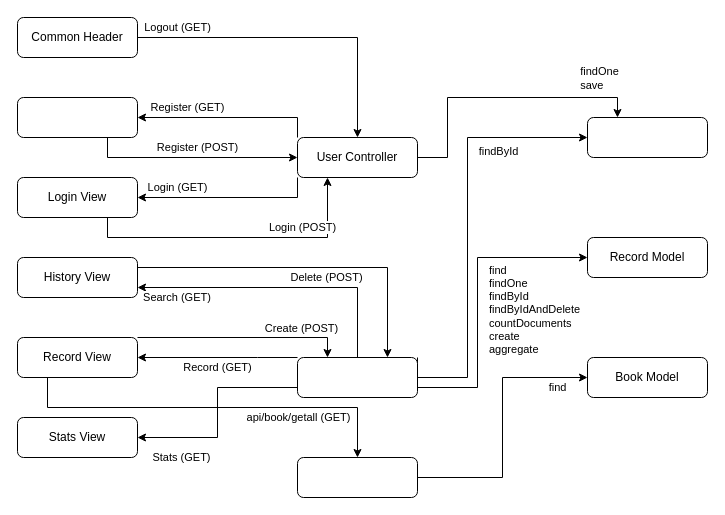
This 725x515 diagram has some shape labels left out. The shapes that lost their labels are listed below. From the top down, each one's centre as x and y in pixels, then its label:
At (77,117): "Register View".
At (647,137): "User Model".
At (357,377): "Record Controller".
At (357,477): "Book API Controller".
